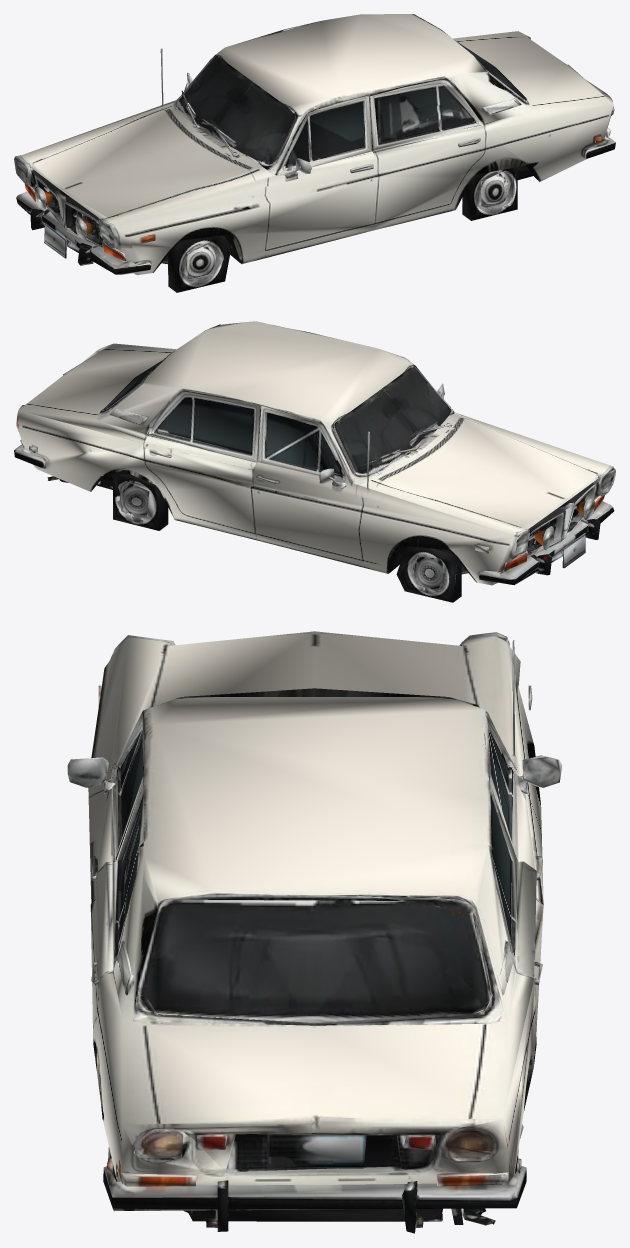
Rendered from lada_car.glb.
The picture shows the model from 3 angles, top to bottom: view 1: azimuth 30°, elevation 25°; view 2: azimuth 150°, elevation 25°; view 3: azimuth 270°, elevation 25°; orthographic projection. The views are drawn at different scales.
Bounding box in the file's own units: 0.9448 × 0.2588 × 0.3881.
1 material, 1 textured.
